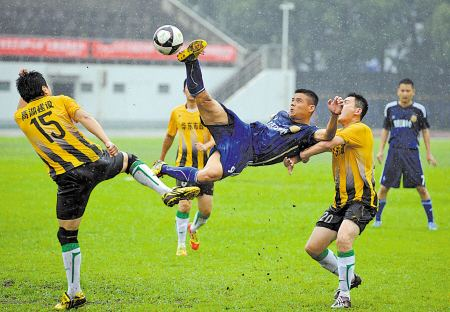football: (152, 25, 184, 55)
